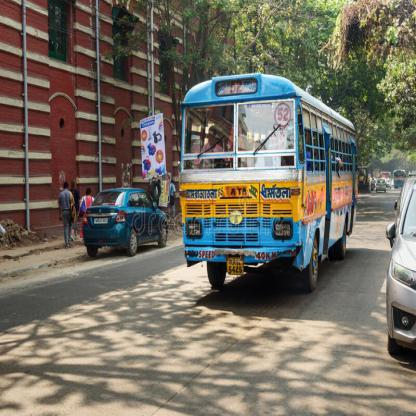bus: (186, 79, 369, 311)
car: (86, 196, 172, 271), (399, 186, 415, 375)
